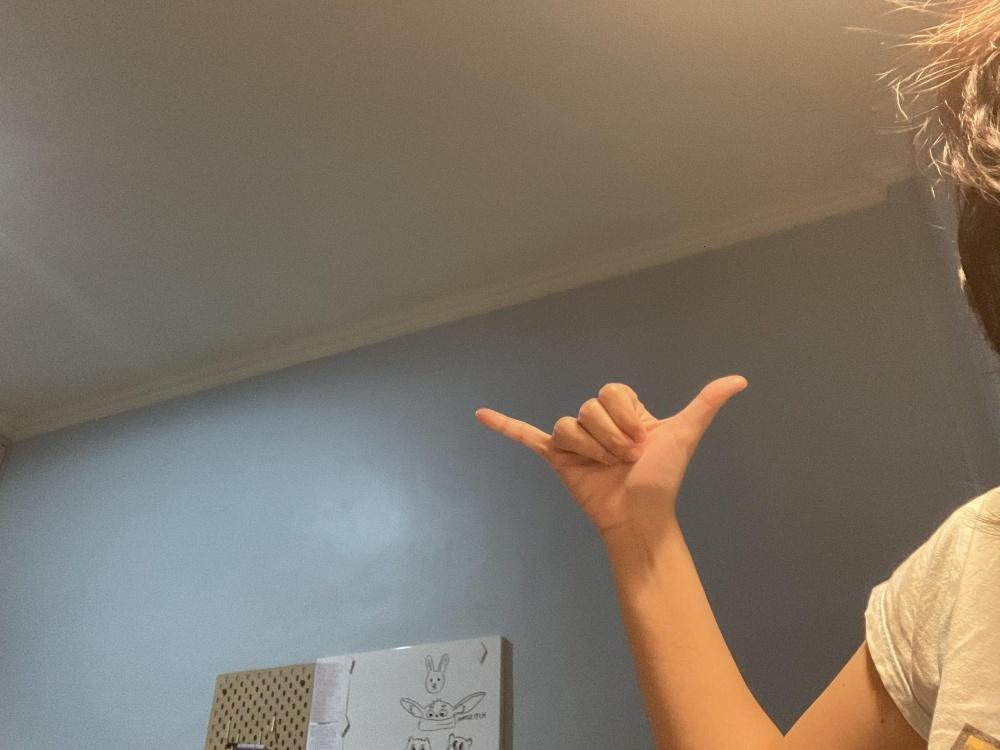y: (474, 373, 747, 529)
